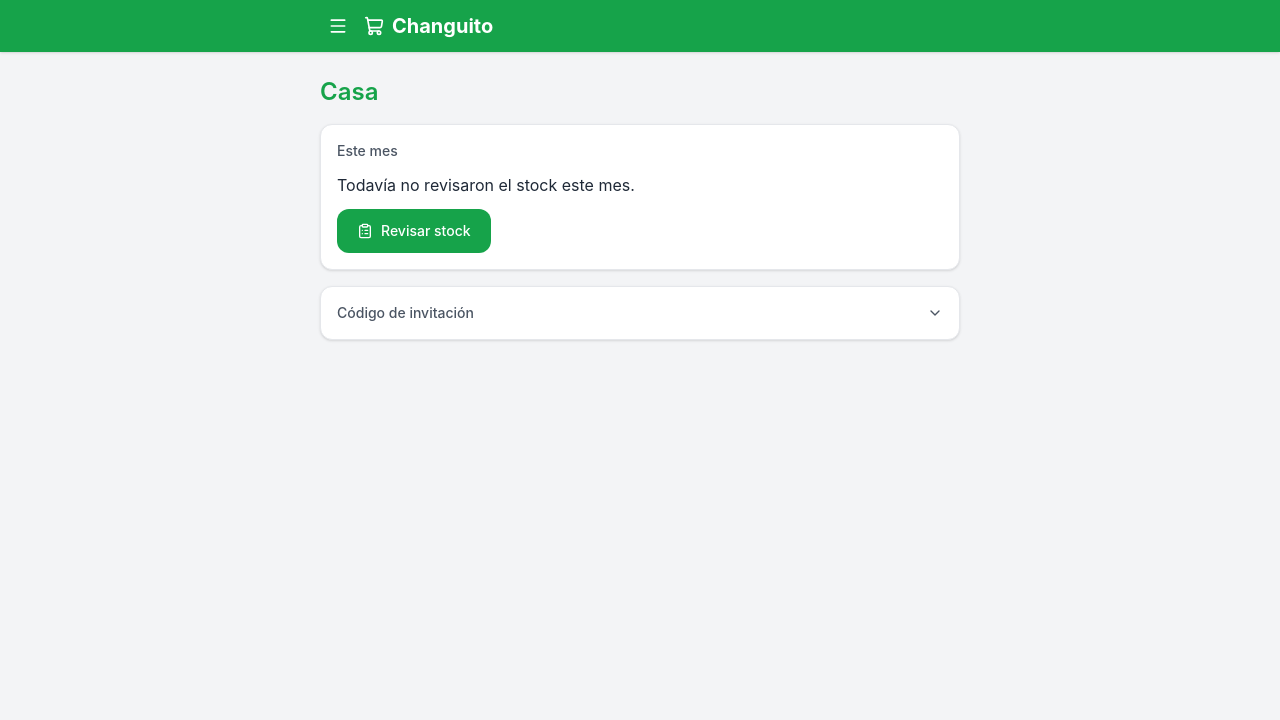
Test: AppRoutes › still lets a member open onboarding to add another household
This screenshot has width=1280, height=720.
Click the button named "Abrir menú" at [338, 26], box [320,8,356,44]
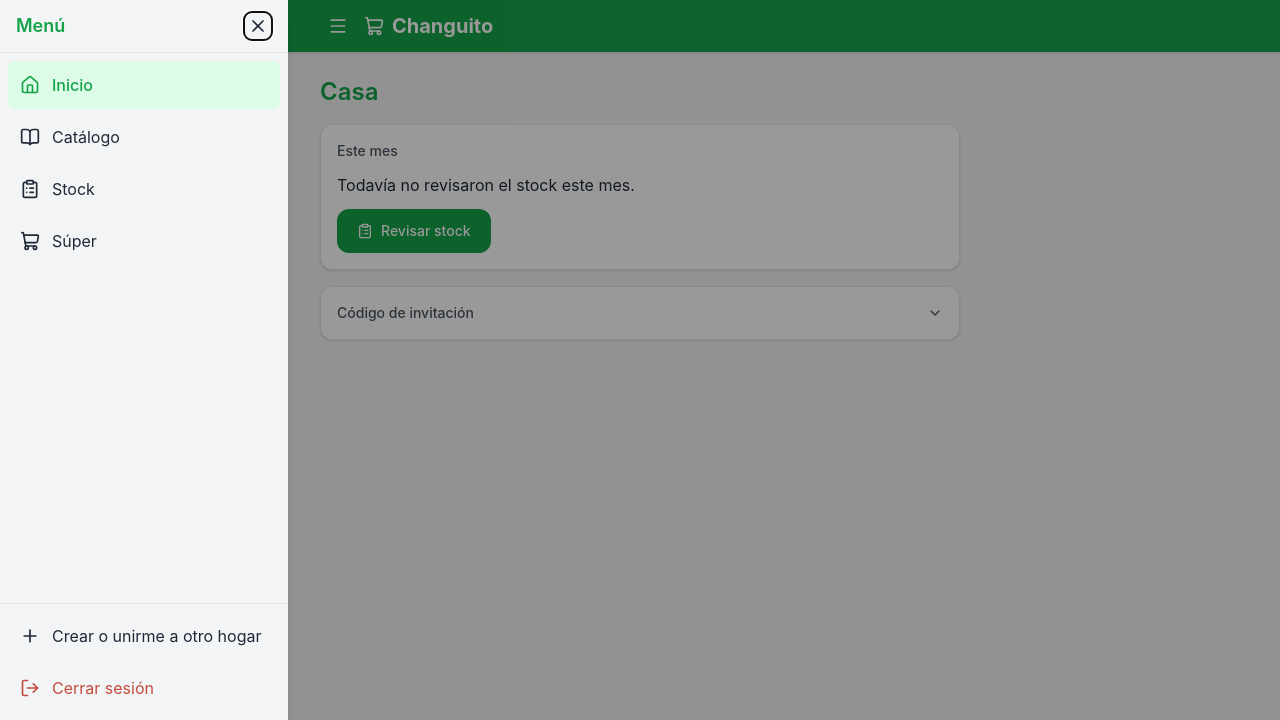
Click the link "Crear o unirme a otro hogar" at [141, 636], box [20,626,262,646]
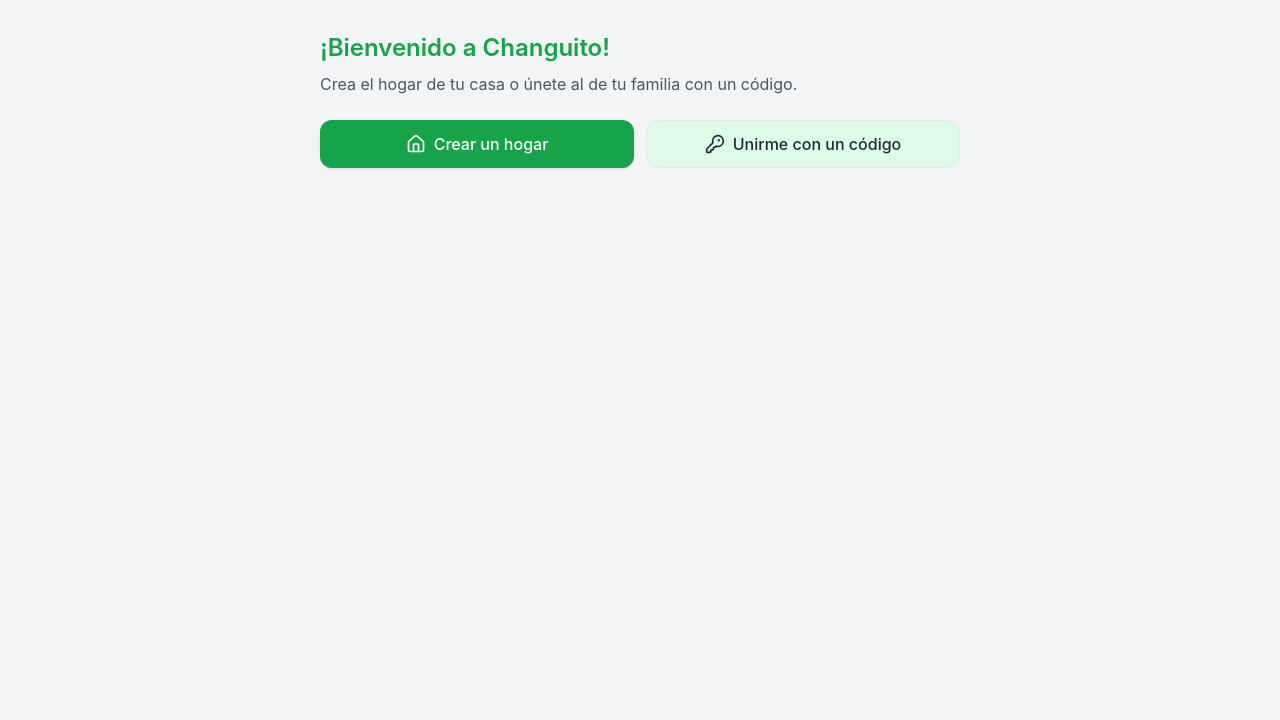
Expected: the heading "¡Bienvenido a Changuito!" is shown, [320,33,610,62]
Expected: the heading "Menú" is gone
